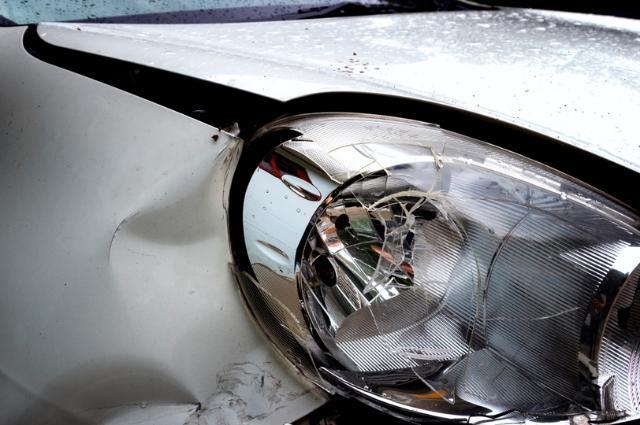Light: (234, 100, 640, 425)
